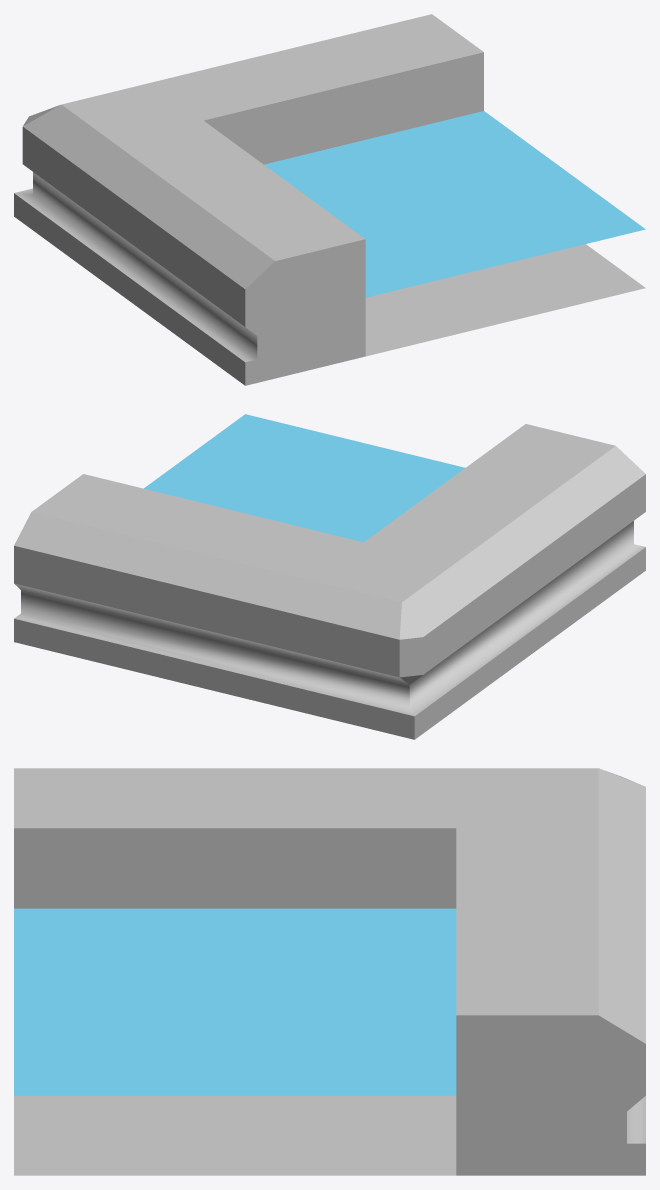
Rendered from fountain-corner.obj.
The picture shows the model from 3 angles, top to bottom: view 1: azimuth 30°, elevation 25°; view 2: azimuth 150°, elevation 25°; view 3: azimuth 270°, elevation 25°; orthographic projection. The views are drawn at different scales.
Parts seen in each view (by area): view 1: fountain-corner, (%ignore); view 2: fountain-corner, (%ignore); view 3: fountain-corner, (%ignore).
Part boxes in pixels (x1,y1,x2,y2): fountain-corner: (14,14,645,385); (%ignore): (264,111,645,297); fountain-corner: (14,424,645,739); (%ignore): (144,414,465,542); fountain-corner: (14,768,645,1175); (%ignore): (14,908,456,1095).
Bounding box in the file's own units: 1 × 0.28 × 1.
